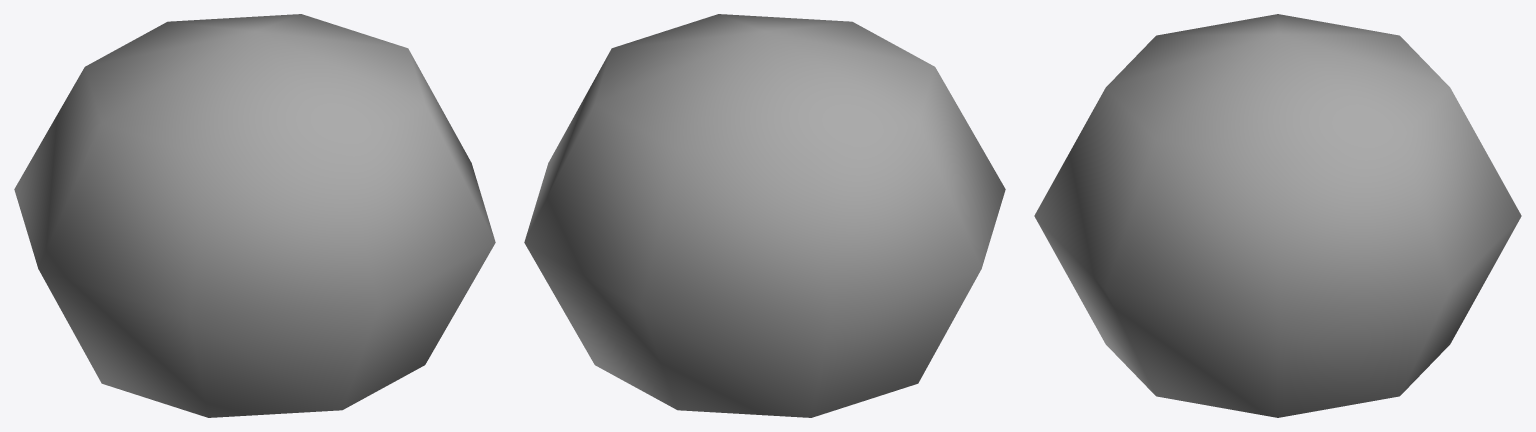
Rendered from rock (1).fbx.
3 renders of one model, left to right at view 1: azimuth 30°, elevation 25°; view 2: azimuth 150°, elevation 25°; view 3: azimuth 270°, elevation 25°, orthographic.
Visible parts, largest first — view 1: Sphere015; view 2: Sphere015; view 3: Sphere015.
Boxes of the visible parts, x1,y1,x2,y2 form: Sphere015: (14, 14, 495, 417); Sphere015: (524, 14, 1005, 417); Sphere015: (1034, 14, 1521, 417).
Bounding box in the file's own units: 34.1 × 23.64 × 33.71.
